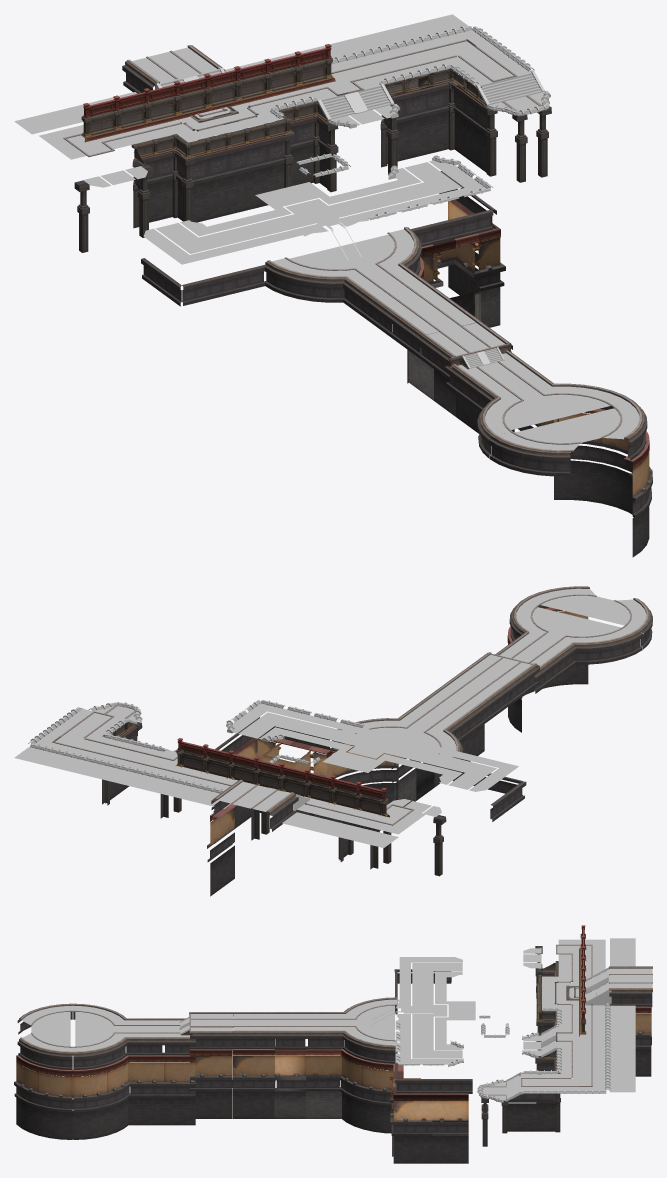
The picture shows the model from 3 angles, top to bottom: view 1: azimuth 30°, elevation 25°; view 2: azimuth 150°, elevation 25°; view 3: azimuth 270°, elevation 25°; orthographic projection. The views are drawn at different scales.
Parts seen in each view (by area): view 1: 52060_006, Object004, 52059_01_02, Group003, 52065_003, Group006, 52060_05, 52060_04, 52059_01_03, 52065_02, 52058_01, Group001 (+8 smaller); view 2: Object004, 52059_01_02, Group003, 52065_003, 52060_04, Group002, Group006, 52059_01_03, 52060_006, 52058_01, 52060_05, Group004 (+3 smaller); view 3: Group003, 52060_04, Object004, Group006, 52059_01_02, Group001, Group004, 52060_05, 52060_006, 52059_01_03, Group002, 52058_01 (+7 smaller).
Boxes of the visible parts, bbox=[...] form: 52060_006: bbox=[74, 80, 497, 252]; Object004: bbox=[14, 14, 529, 159]; 52059_01_02: bbox=[83, 105, 486, 264]; Group003: bbox=[445, 350, 635, 514]; 52065_003: bbox=[81, 44, 335, 142]; Group006: bbox=[488, 400, 652, 557]; 52060_05: bbox=[141, 171, 496, 337]; 52060_04: bbox=[407, 192, 505, 416]; 52059_01_03: bbox=[272, 229, 446, 312]; 52065_02: bbox=[131, 101, 328, 165]; 52058_01: bbox=[296, 26, 534, 220]; Group001: bbox=[389, 298, 480, 433]; Object004: bbox=[14, 710, 425, 847]; 52059_01_02: bbox=[232, 703, 518, 816]; Group003: bbox=[486, 600, 643, 732]; 52065_003: bbox=[176, 738, 389, 817]; 52060_04: bbox=[211, 734, 434, 843]; Group002: bbox=[207, 779, 298, 896]; Group006: bbox=[521, 586, 652, 696]; 52059_01_03: bbox=[342, 691, 481, 756]; 52060_006: bbox=[102, 722, 446, 876]; 52058_01: bbox=[28, 700, 364, 793]; 52060_05: bbox=[215, 704, 526, 821]; Group004: bbox=[460, 652, 539, 761]; Group003: bbox=[70, 1003, 195, 1139]; 52060_04: bbox=[274, 1049, 468, 1163]; Object004: bbox=[522, 938, 635, 1092]; Group006: bbox=[14, 1003, 75, 1139]; 52059_01_02: bbox=[371, 948, 541, 1064]; Group001: bbox=[232, 1012, 276, 1118]; Group004: bbox=[190, 1012, 233, 1118]; 52060_05: bbox=[274, 969, 472, 1093]; 52060_006: bbox=[501, 946, 560, 1133]; 52059_01_03: bbox=[276, 999, 397, 1045]; Group002: bbox=[609, 966, 652, 1076]; 52058_01: bbox=[395, 1003, 610, 1093].
Bounding box in the file's own units: 2872 × 1238 × 4937.
